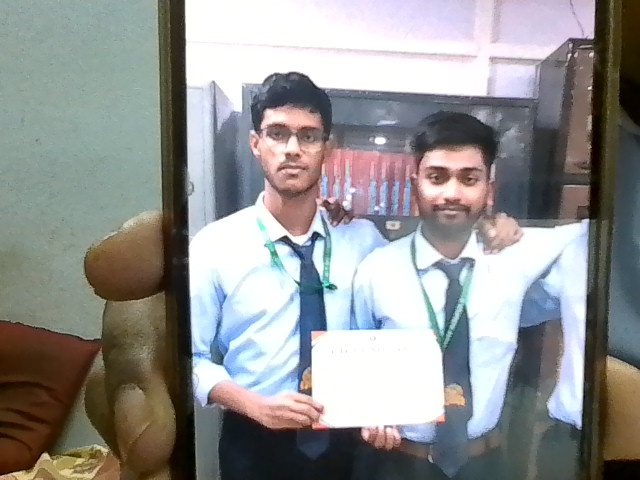real: (397, 103, 500, 249)
